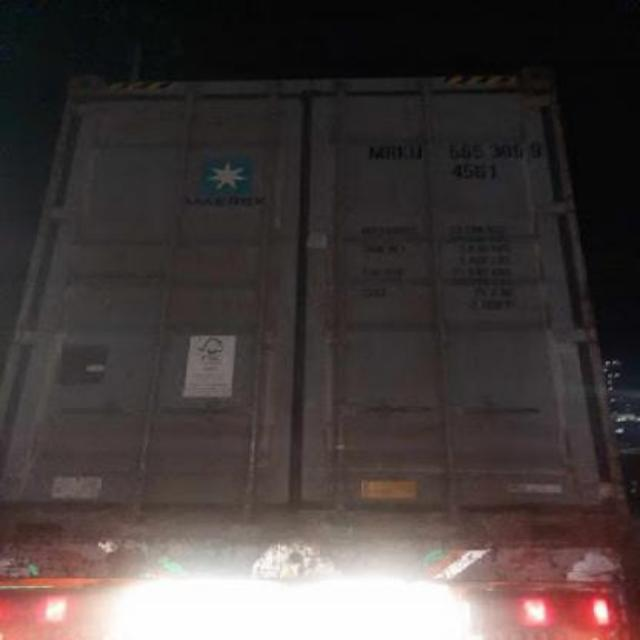0: (500, 138, 510, 162)
3: (488, 142, 500, 162)
5: (512, 136, 524, 164), (444, 138, 458, 160), (472, 142, 484, 162)
6: (460, 138, 472, 162)
9: (530, 140, 540, 160)
K: (396, 140, 408, 163)
M: (361, 138, 382, 166)
R: (384, 142, 398, 164)
U: (408, 140, 422, 164)
